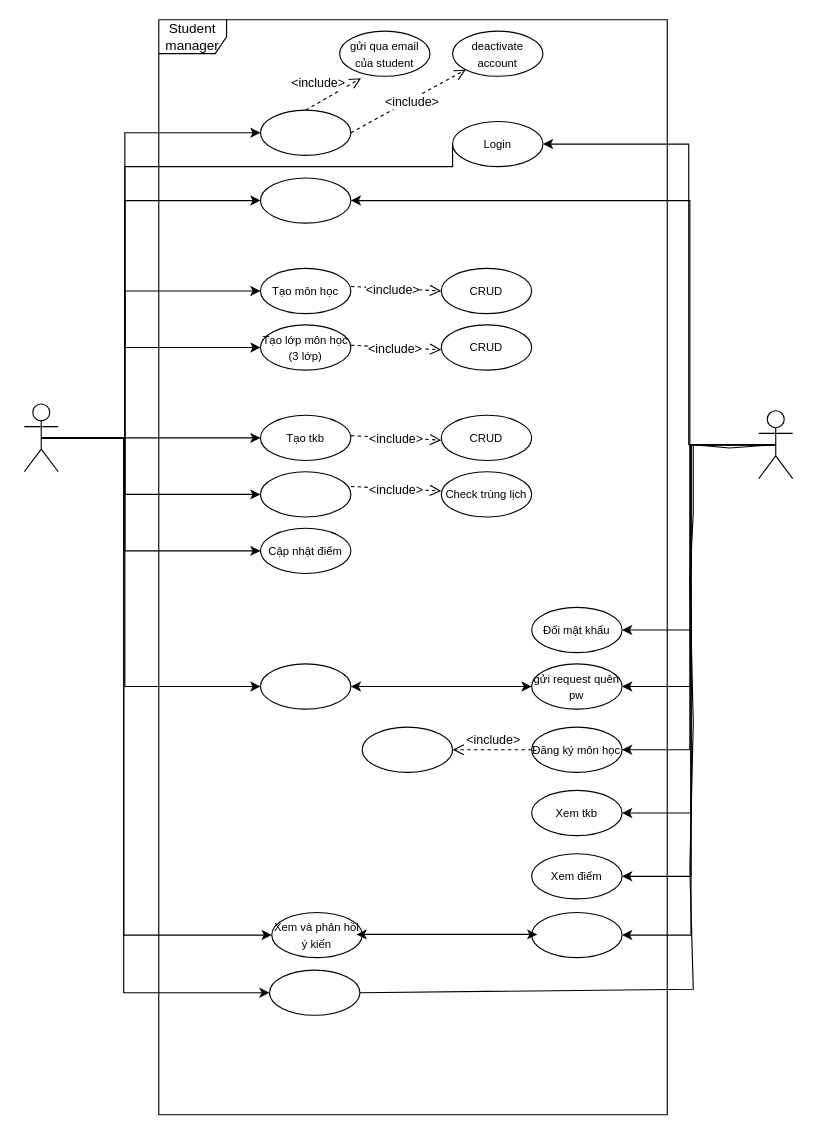
This 818x1135 diagram has some shape labels left out. The shapes that lost their labels are listed below. From the top down, each one's box as (x1, y1, x2, y2) in pixels, then its label:
(259, 109, 351, 155): Tạo account
(259, 177, 351, 223): Sửa thông tin student
(23, 403, 58, 472): ADMIN
(758, 410, 793, 479): Student
(259, 471, 351, 517): Sắp xếp tkb
(259, 663, 351, 709): Gửi link reset pw về email
(361, 726, 453, 772): Huỷ đăng ký
(531, 911, 622, 958): Gửi ý kiến
(268, 969, 360, 1015): Gửi thông báo
